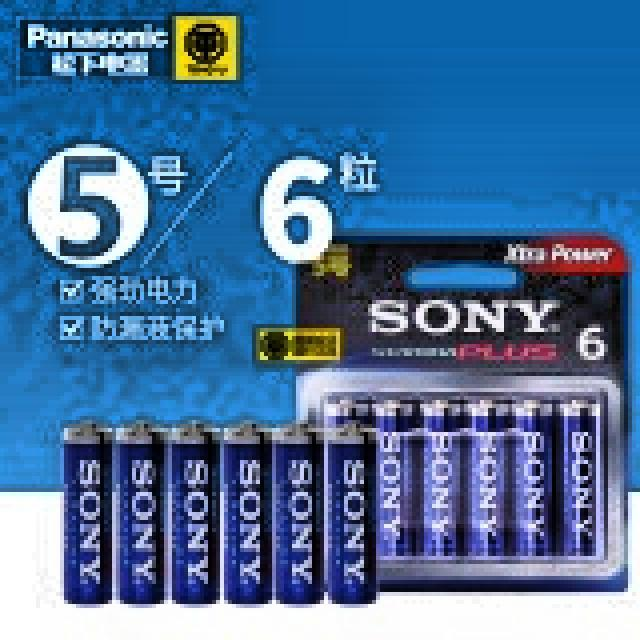Non-Valuable Waste - Batteries: (272, 425, 322, 602), (326, 425, 376, 602), (64, 425, 111, 603), (224, 425, 271, 602), (172, 426, 218, 602), (119, 425, 164, 602)
